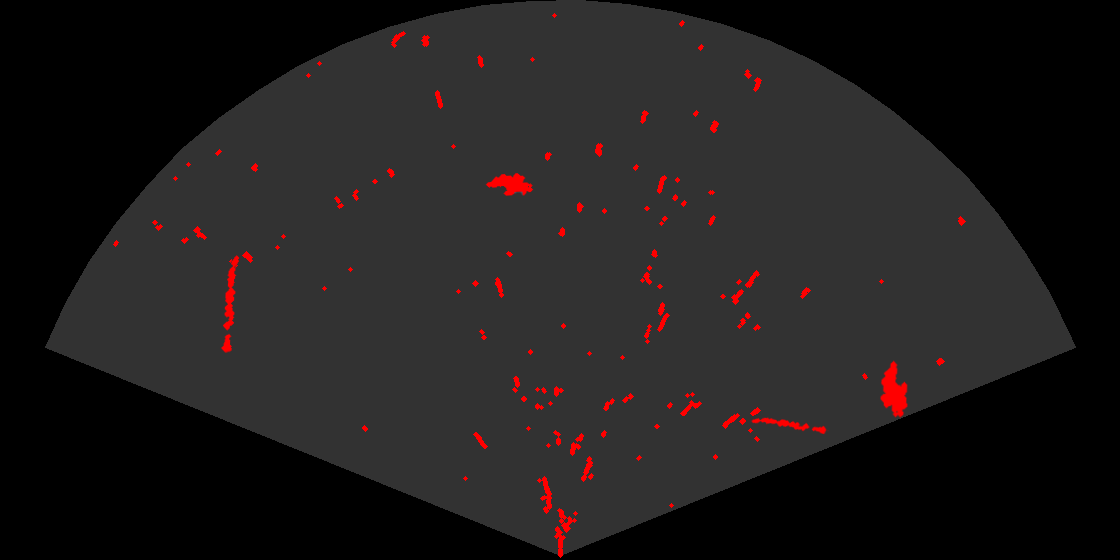AUV: (879, 359, 909, 419), (484, 172, 535, 197)
chain: (219, 254, 241, 353), (749, 416, 829, 436)
